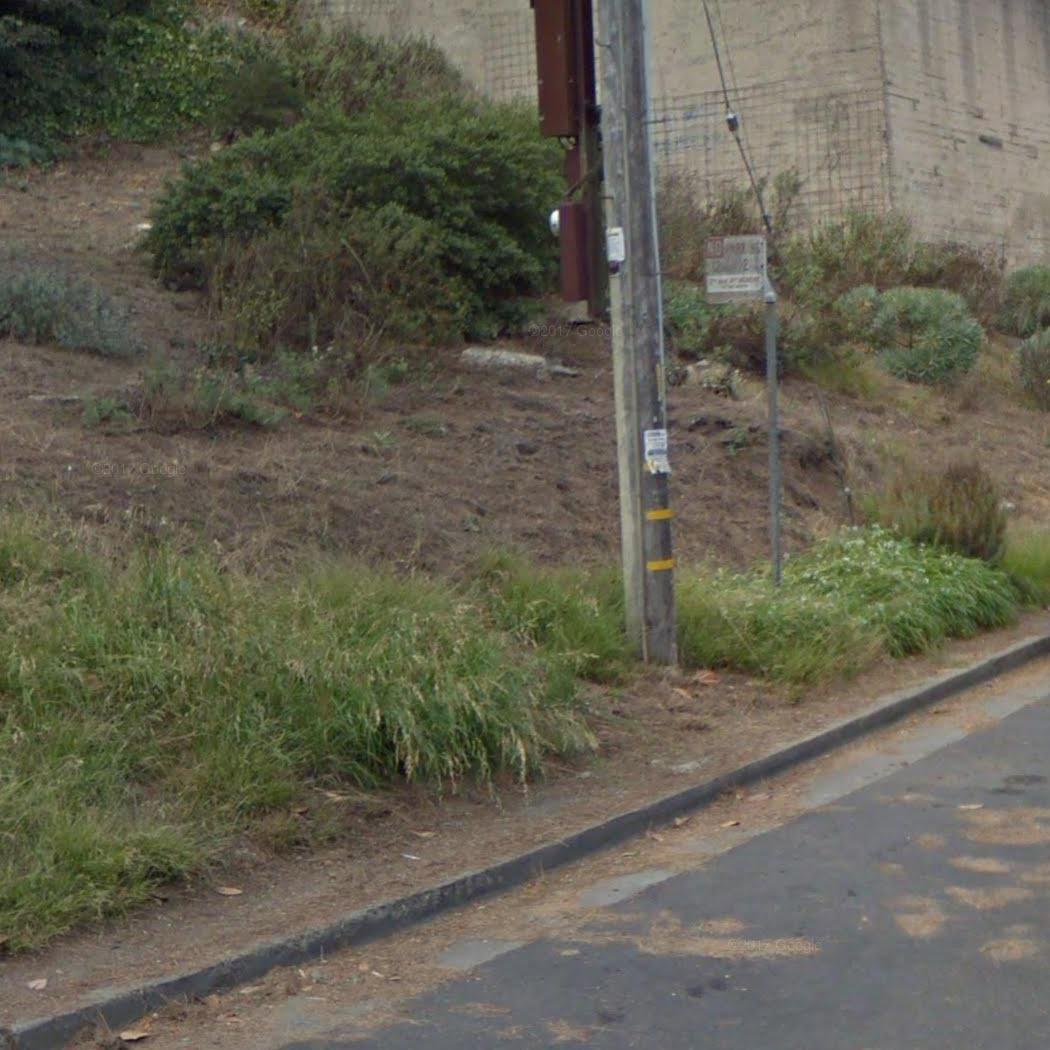No Parking: (697, 230, 773, 311)
